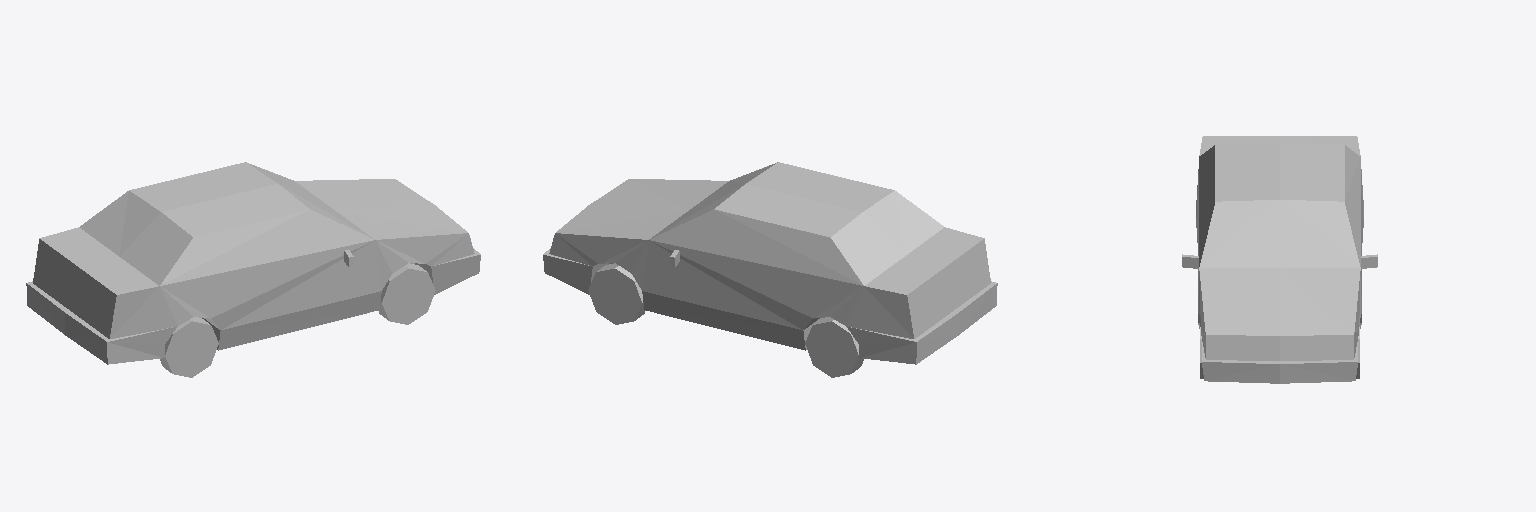
The model's file is Car2_o1.obj.
3 views of the same model, side by side, from view 1: azimuth 30°, elevation 25°; view 2: azimuth 150°, elevation 25°; view 3: azimuth 270°, elevation 25° (orthographic).
Visible parts, largest first — view 1: Car2; view 2: Car2; view 3: Car2.
Boxes of the visible parts, x1,y1,x2,y2 form: Car2: [26, 162, 480, 377]; Car2: [543, 162, 997, 377]; Car2: [1182, 136, 1377, 383].
Bounding box in the file's own units: 3.56 × 1.2 × 1.58.